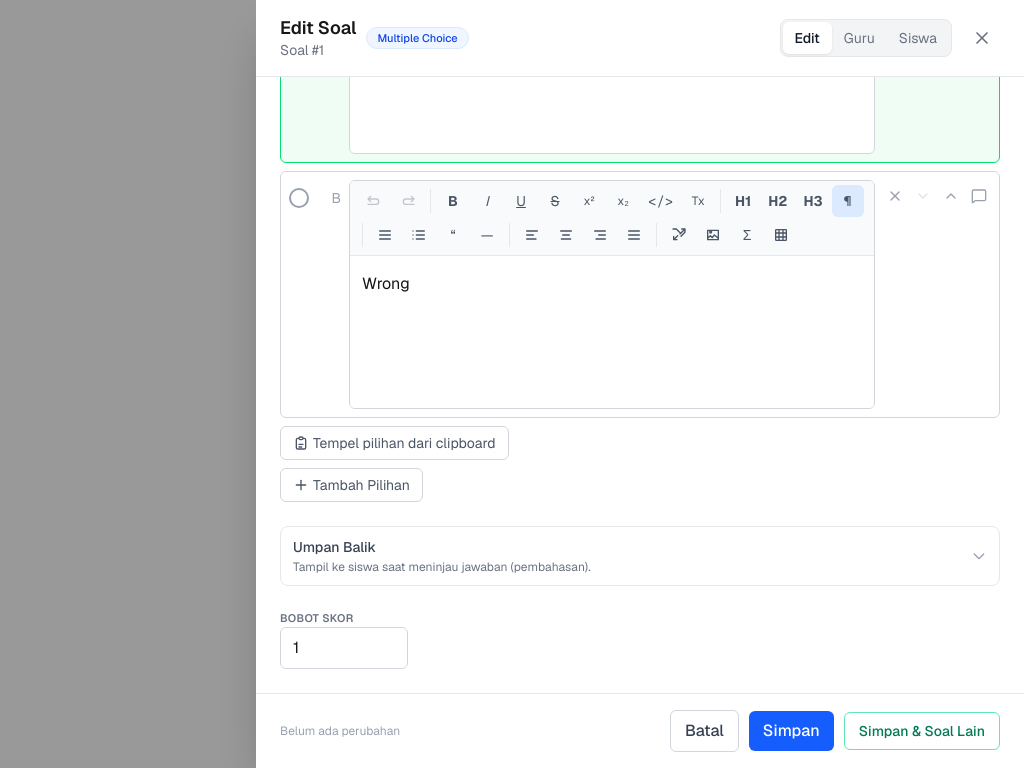
Test: QuestionEditor autosave › lets the teacher reload the server version on conflict
(page scrolled)
Replace the text in the number field labelled "Bobot Skor" with "4" at x=344, y=648, box [280,626,408,668]
(page scrolled)
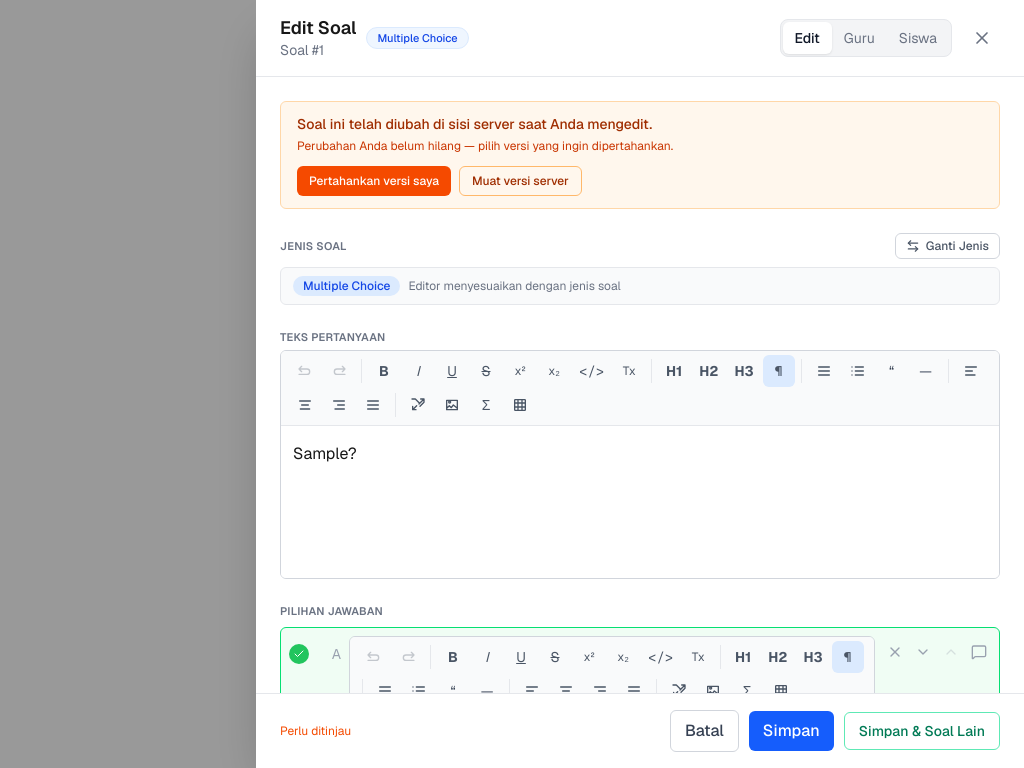
expect the text "Soal ini telah diubah di sisi server saat Anda mengedit." is shown: met, box [297,115,652,133]
Click the button "Muat versi server" at x=520, y=181, box [459,166,582,196]
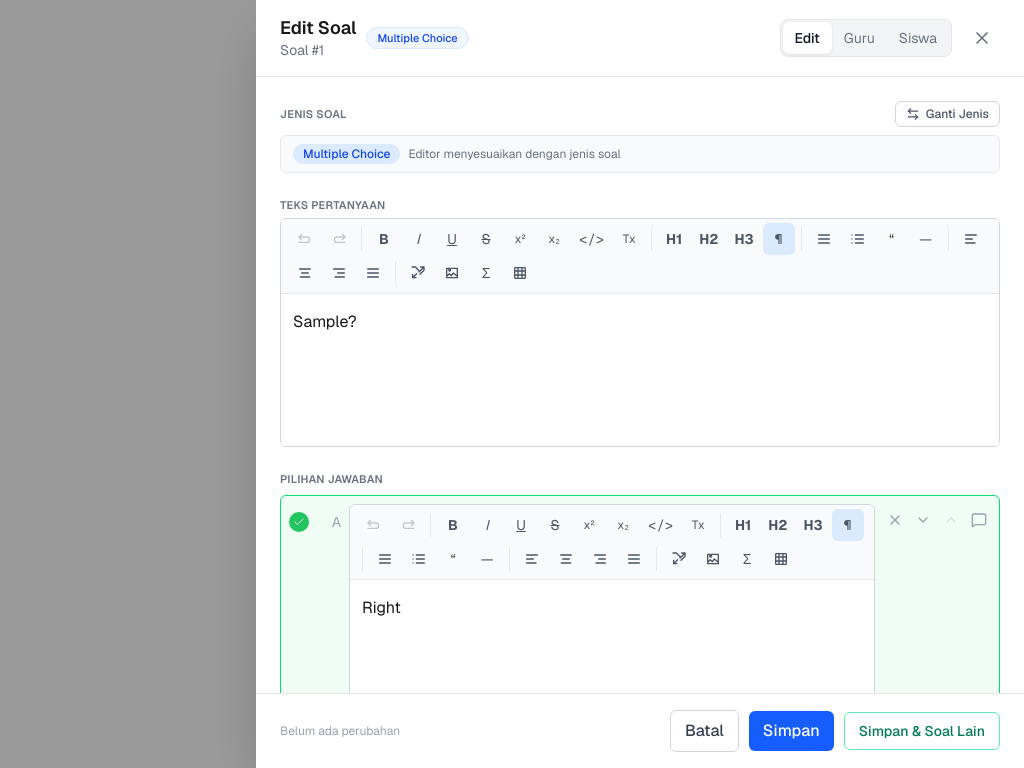
expect the text "Belum ada perubahan" is shown: met, box [280,723,400,739]
